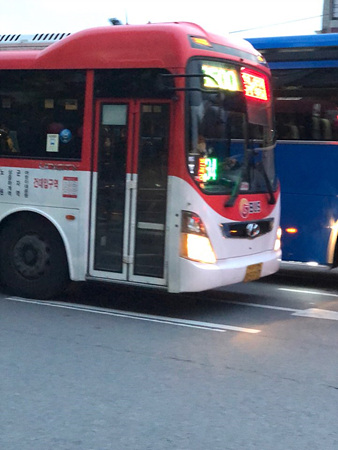entrance: (91, 98, 179, 293)
